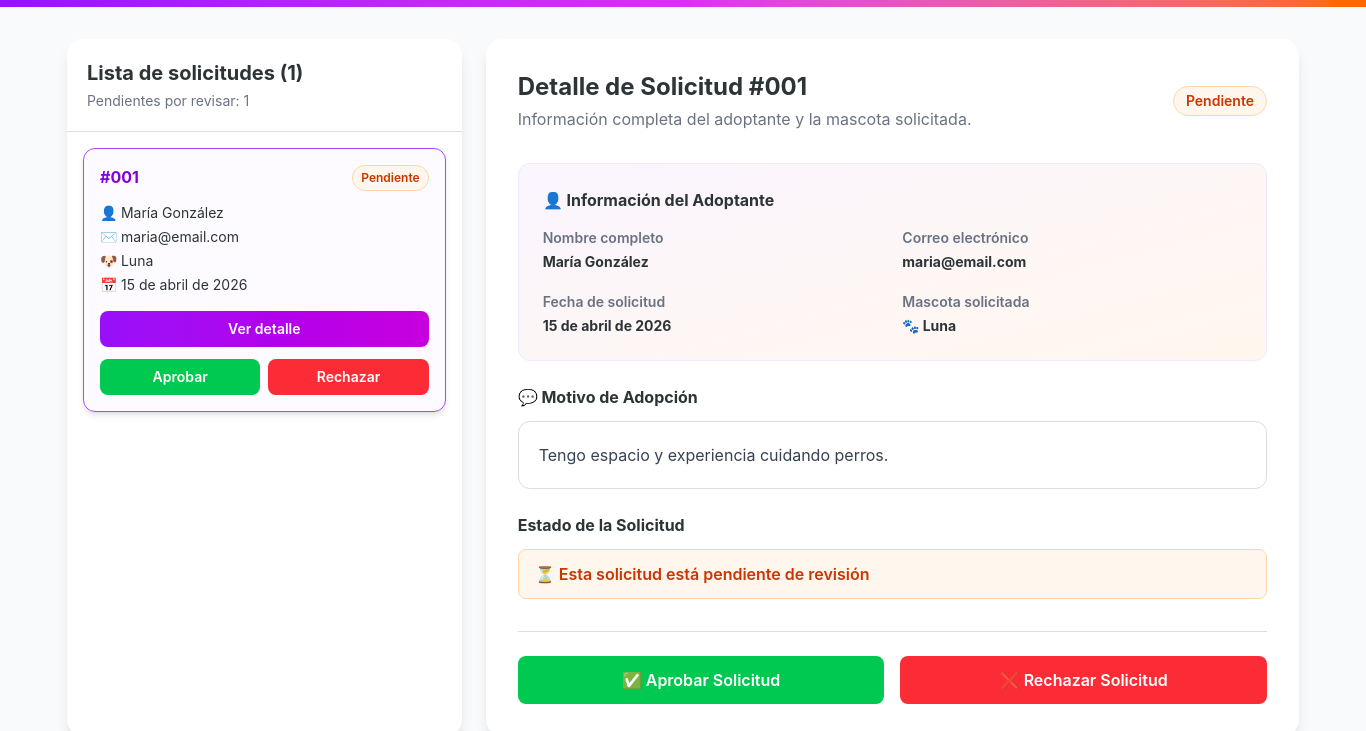
Test: ManageAdoptionRequestsScreen › shows error when updating status fails
(page scrolled)
Expected: the heading "Detalle de Solicitud #001" is shown, [518,72,807,101]
Click the button "✅ Aprobar Solicitud". click: point(701, 680)
box: [518,656,884,704]
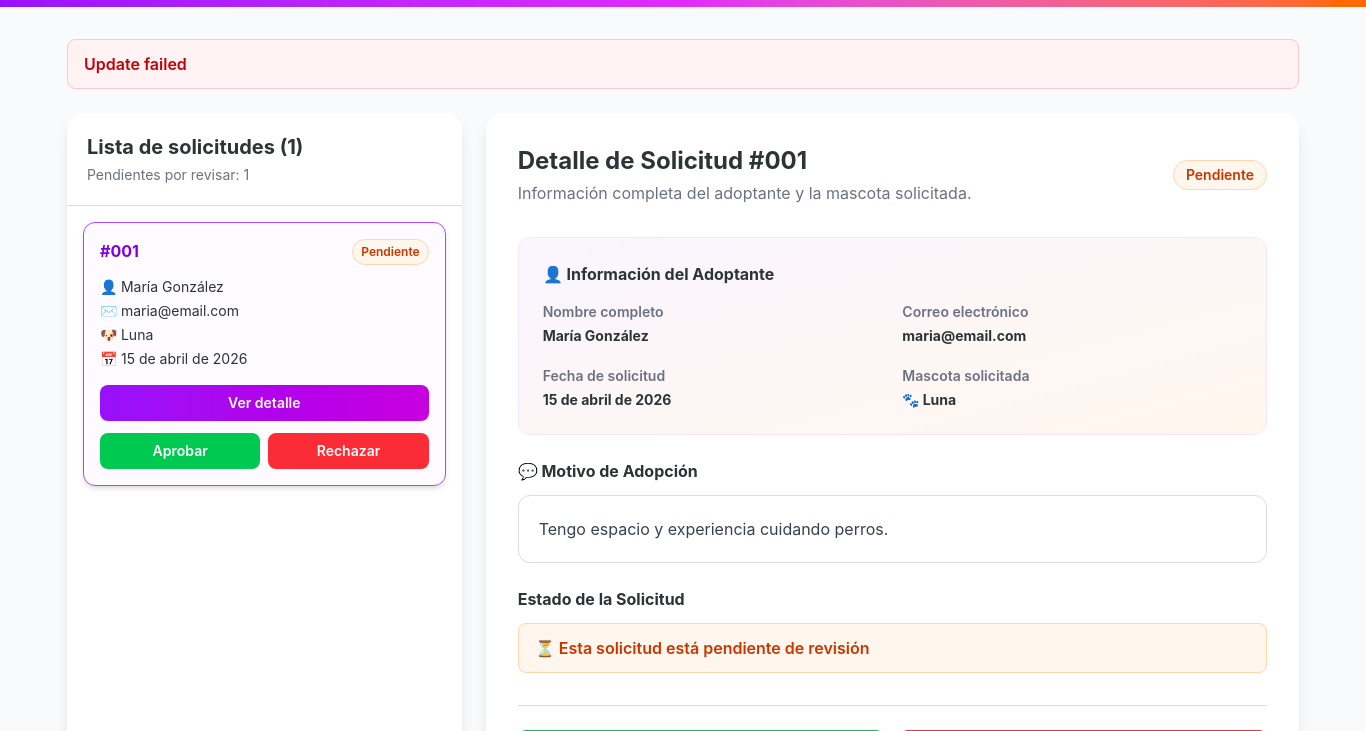
Expected: the text "Update failed" is shown, [67,39,1299,89]
